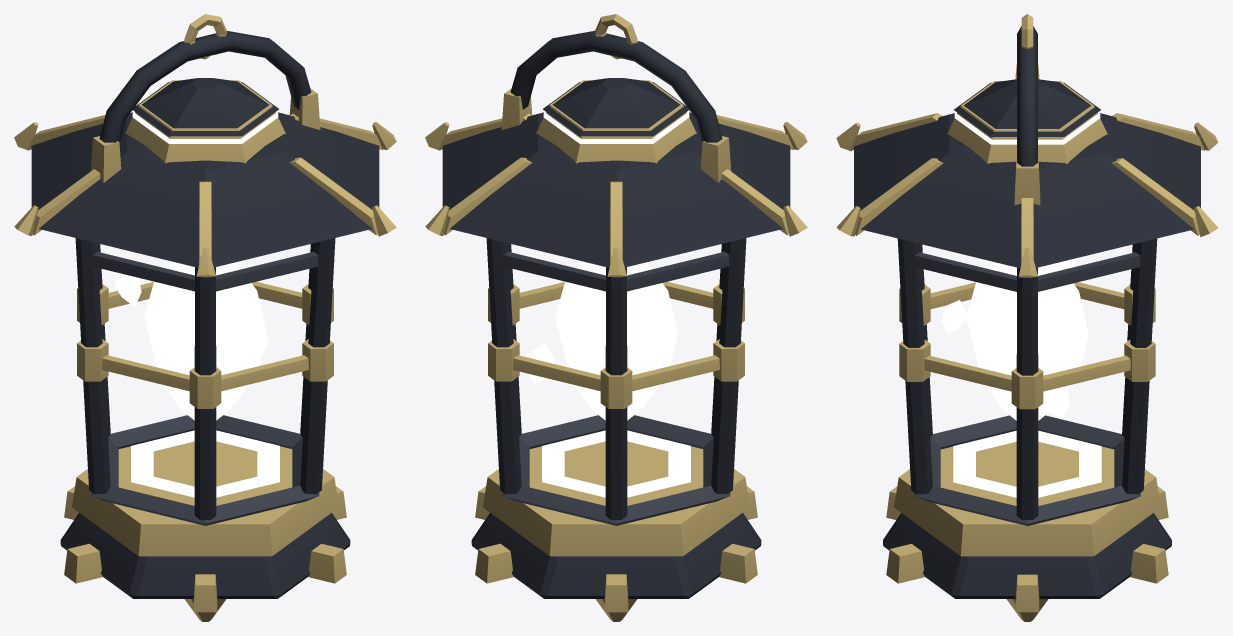
Rendered from spirit-lantern.glb.
The picture shows the model from 3 angles, left to right: view 1: azimuth 30°, elevation 25°; view 2: azimuth 150°, elevation 25°; view 3: azimuth 270°, elevation 25°; orthographic projection.
Visible parts, largest first — view 1: Body, Signal; view 2: Body, Signal; view 3: Body, Signal.
Part boxes in pixels (x1,y1,x2,y2): Body: [14, 14, 396, 621]; Signal: [114, 111, 279, 497]; Body: [425, 14, 807, 621]; Signal: [526, 111, 690, 497]; Body: [836, 14, 1218, 621]; Signal: [942, 112, 1101, 497].
Bounding box in the file's own units: 0.1836 × 0.28 × 0.1604.
